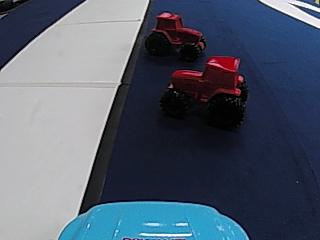Tracktor: (160, 51, 249, 125), (145, 9, 207, 59)
